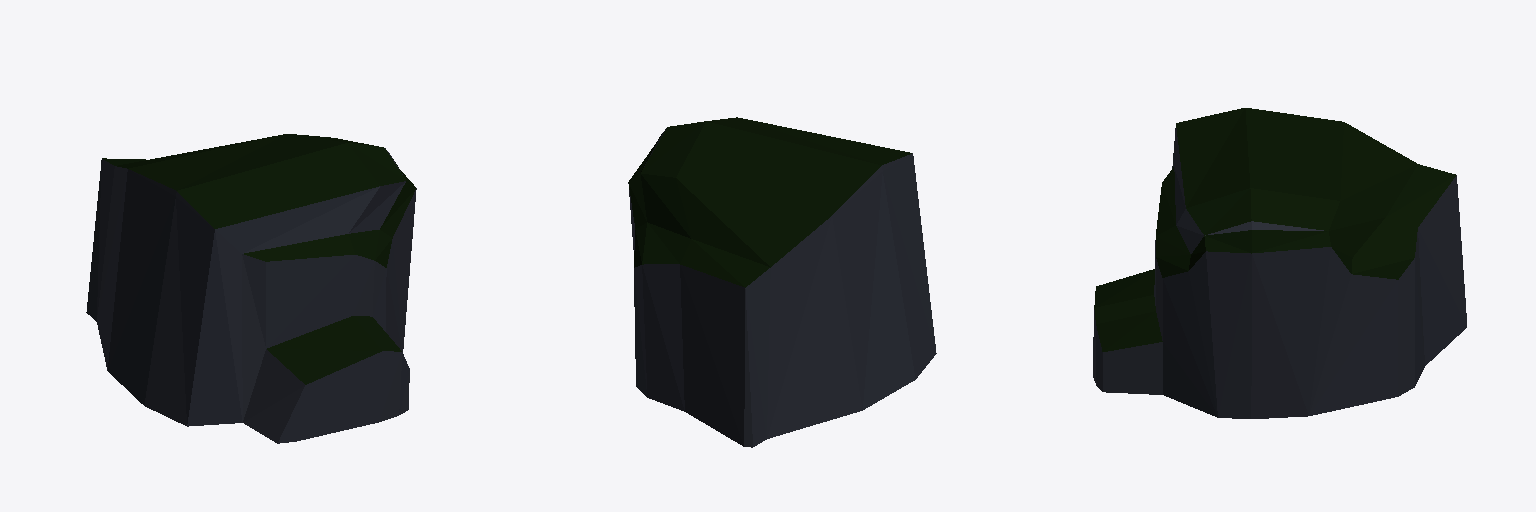
The model's file is Rock_Moss_6.obj.
3 renders of one model, left to right at view 1: azimuth 30°, elevation 25°; view 2: azimuth 150°, elevation 25°; view 3: azimuth 270°, elevation 25°, orthographic.
Parts seen in each view (by area): view 1: Rock_Moss_6_Cube.027; view 2: Rock_Moss_6_Cube.027; view 3: Rock_Moss_6_Cube.027.
Part boxes in pixels (x1,y1,x2,y2): Rock_Moss_6_Cube.027: (86, 134, 416, 443); Rock_Moss_6_Cube.027: (628, 117, 936, 447); Rock_Moss_6_Cube.027: (1093, 108, 1466, 418).
Size of the model in its own units: 0.912 by 0.7078 by 1.14.